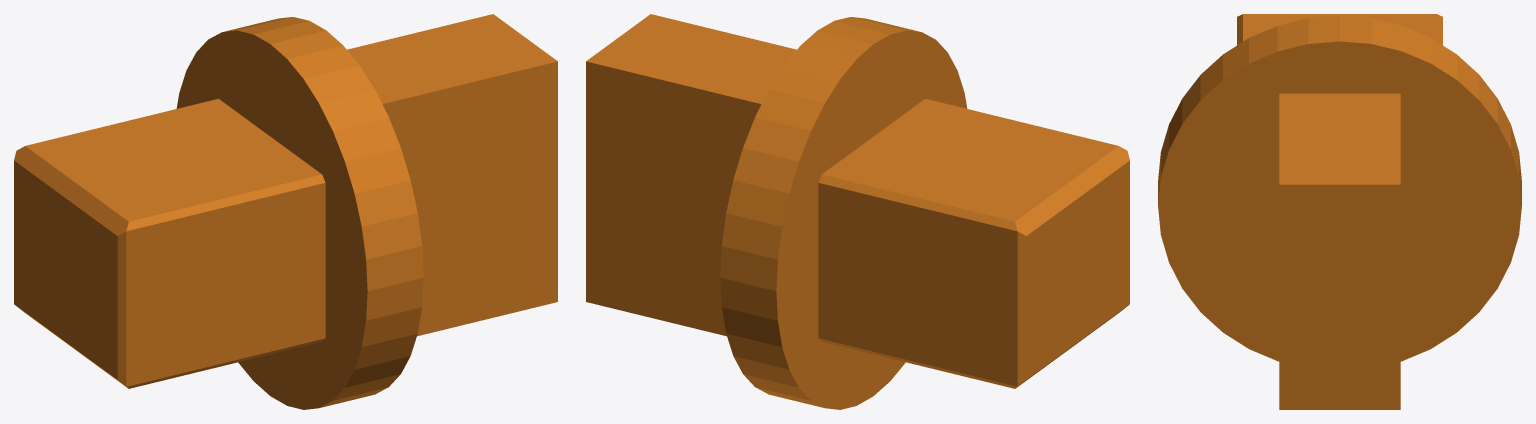
Rendered from yaw4.dae.
The picture shows the model from 3 angles, left to right: view 1: azimuth 30°, elevation 25°; view 2: azimuth 150°, elevation 25°; view 3: azimuth 270°, elevation 25°; orthographic projection. The views are drawn at different scales.
Visible parts, largest first — view 1: _; view 2: _; view 3: _.
Boxes of the visible parts, left/top/right/bottom form: _: left=14, top=14, right=557, bottom=409; _: left=586, top=14, right=1129, bottom=409; _: left=1158, top=14, right=1521, bottom=409.
Bounding box in the file's own units: 0.082 × 0.06 × 0.06.
